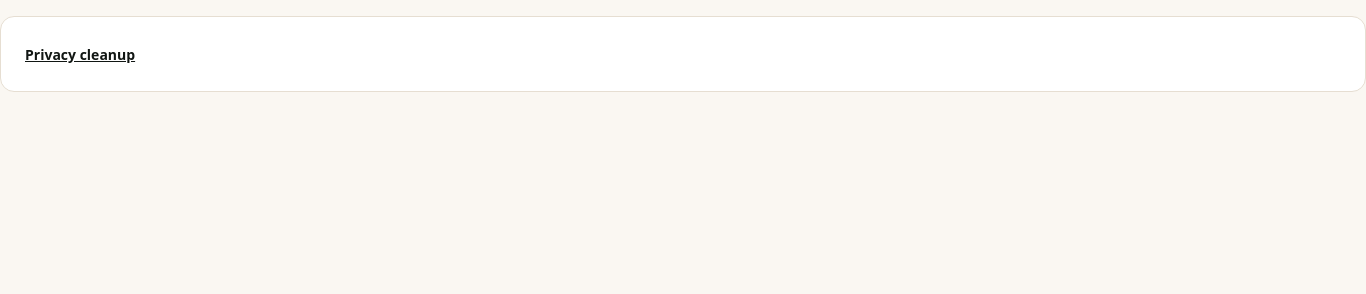
Scenario: operator privacy cleanup › fetches only after opening and never retries cleanup automatically
Click the button "Privacy cleanup": (80, 55) [25,45,135,65]
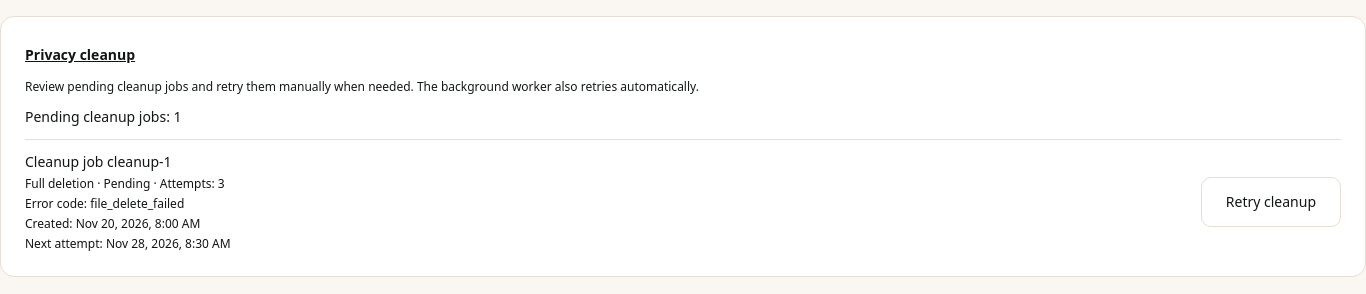
Expected: the text "Cleanup job cleanup-1" is shown, [25,152,172,171]
Click the button "Privacy cleanup": (80, 55) [25,45,135,65]
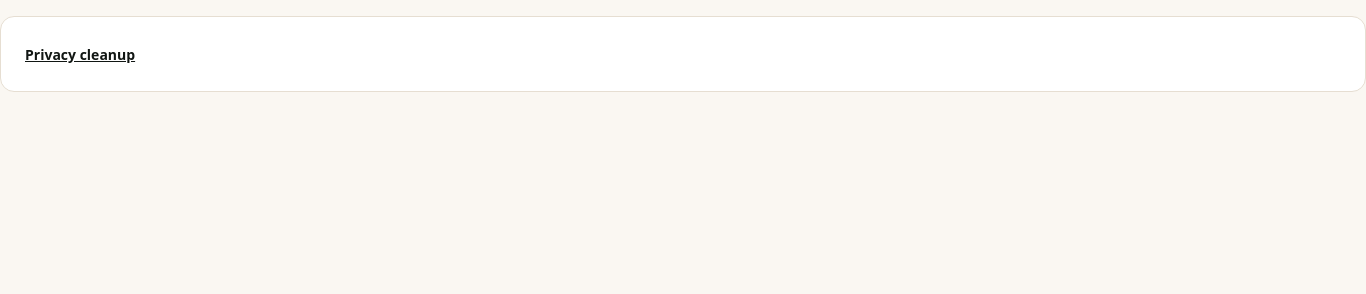
Expected: the text "Cleanup job cleanup-1" is gone
